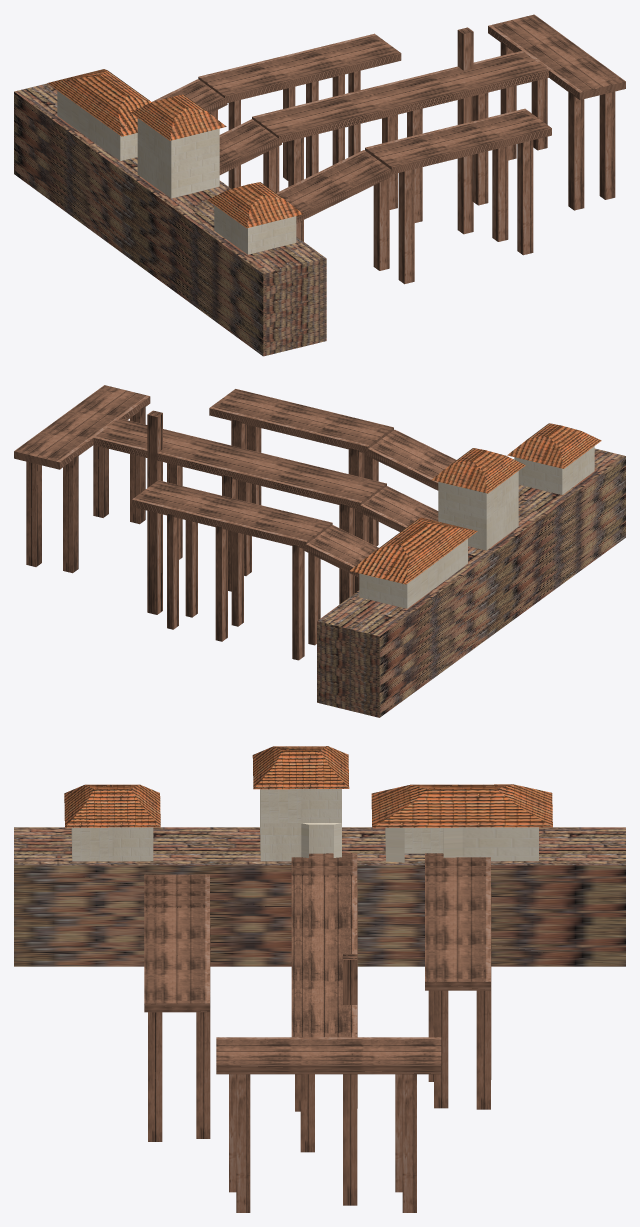
File: Port.obj
3 views of the same model, one above another, from view 1: azimuth 30°, elevation 25°; view 2: azimuth 150°, elevation 25°; view 3: azimuth 270°, elevation 25° (orthographic). The views are drawn at different scales.
Parts seen in each view (by area): view 1: Cube, Cube.021_Cube.023, Cube.007_Cube.006, Cube.012_Cube.013, Cube.026_Cube.029, Plane.005_Plane.007, Cube.001_Cube.010, Plane.000_Plane.004, Plane.003, Plane.004_Plane.006, Cube.017_Cube.019, Plane.002 (+21 smaller); view 2: Cube, Cube.021_Cube.023, Cube.007_Cube.006, Cube.012_Cube.013, Cube.026_Cube.029, Plane.000_Plane.004, Plane.005_Plane.007, Plane.001_Plane.005, Cube.017_Cube.019, Cube.001_Cube.010, Plane.003, Plane.004_Plane.006 (+20 smaller); view 3: Cube, Cube.021_Cube.023, Cube.026_Cube.029, Plane.000_Plane.004, Cube.007_Cube.006, Cube.012_Cube.013, Plane.005_Plane.007, Plane.001_Plane.005, Plane.003, Plane.004_Plane.006, Plane.002, Cube.017_Cube.019 (+12 smaller).
Boxes of the visible parts, bbox=[...] form: Cube: bbox=[14, 83, 326, 356]; Cube.021_Cube.023: bbox=[252, 51, 548, 142]; Cube.007_Cube.006: bbox=[198, 33, 401, 102]; Cube.012_Cube.013: bbox=[365, 108, 551, 174]; Cube.026_Cube.029: bbox=[488, 14, 625, 99]; Plane.005_Plane.007: bbox=[137, 118, 219, 198]; Cube.001_Cube.010: bbox=[276, 150, 392, 223]; Plane.000_Plane.004: bbox=[47, 69, 151, 136]; Plane.003: bbox=[207, 182, 303, 228]; Plane.004_Plane.006: bbox=[130, 94, 226, 140]; Cube.017_Cube.019: bbox=[457, 27, 473, 234]; Plane.002: bbox=[214, 205, 296, 254]; Cube: bbox=[317, 448, 625, 717]; Cube.021_Cube.023: bbox=[93, 418, 386, 509]; Cube.007_Cube.006: bbox=[132, 480, 332, 548]; Cube.012_Cube.013: bbox=[209, 389, 393, 453]; Cube.026_Cube.029: bbox=[14, 385, 150, 469]; Plane.000_Plane.004: bbox=[350, 517, 477, 584]; Plane.005_Plane.007: bbox=[438, 471, 518, 550]; Plane.001_Plane.005: bbox=[359, 539, 467, 608]; Cube.017_Cube.019: bbox=[147, 410, 162, 614]; Cube.001_Cube.010: bbox=[366, 429, 456, 490]; Plane.003: bbox=[507, 423, 601, 468]; Plane.004_Plane.006: bbox=[431, 448, 525, 493]; Cube: bbox=[14, 827, 625, 966]; Cube.021_Cube.023: bbox=[291, 875, 357, 1037]; Cube.026_Cube.029: bbox=[216, 1037, 441, 1074]; Plane.000_Plane.004: bbox=[371, 784, 552, 827]; Cube.007_Cube.006: bbox=[425, 876, 490, 990]; Cube.012_Cube.013: bbox=[144, 907, 209, 1012]; Plane.005_Plane.007: bbox=[260, 789, 341, 861]; Plane.001_Plane.005: bbox=[385, 827, 538, 862]; Plane.003: bbox=[64, 784, 160, 827]; Plane.004_Plane.006: bbox=[252, 746, 349, 789]; Plane.002: bbox=[71, 827, 153, 861]; Cube.017_Cube.019: bbox=[343, 954, 357, 1205].
Size of the model in its own units: 0.7394 by 0.3462 by 0.7171.
5 materials, 4 textured.
